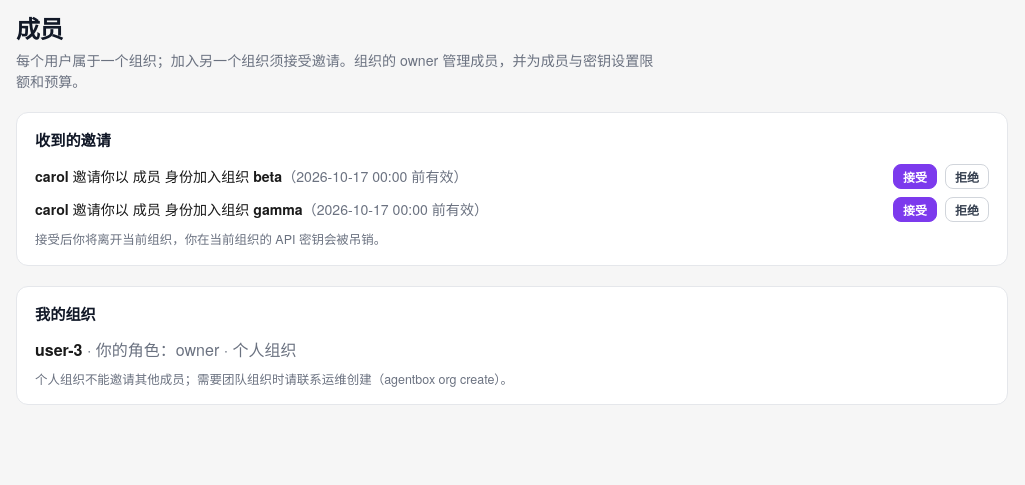
Scenario: OrgView › lets the invitee accept or decline
expect the number of list items is 2: met, box [35, 164, 989, 189]; [35, 197, 989, 222]
Click the button "拒绝" in the row of "gamma" at (967, 210), box [945, 197, 989, 222]
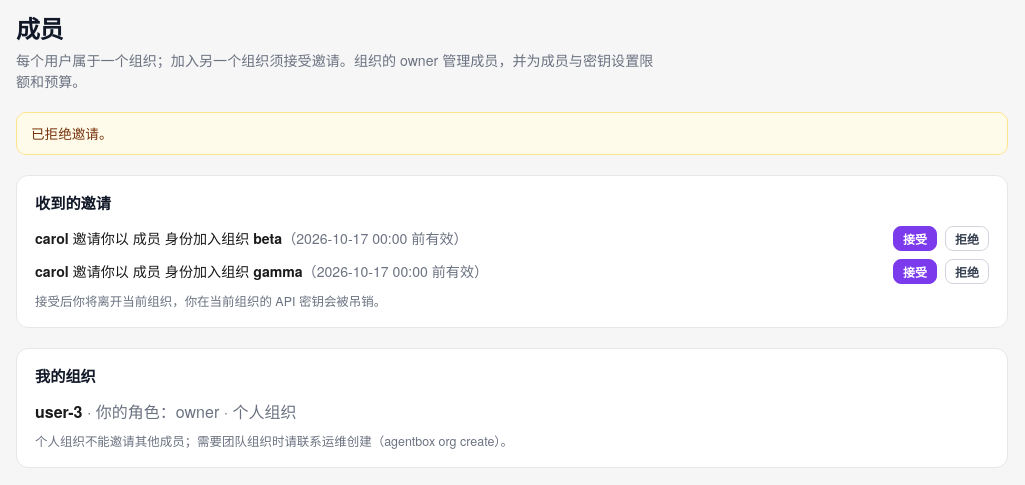
Click the button "接受" in the row of "beta" at (915, 239), box [893, 226, 937, 251]
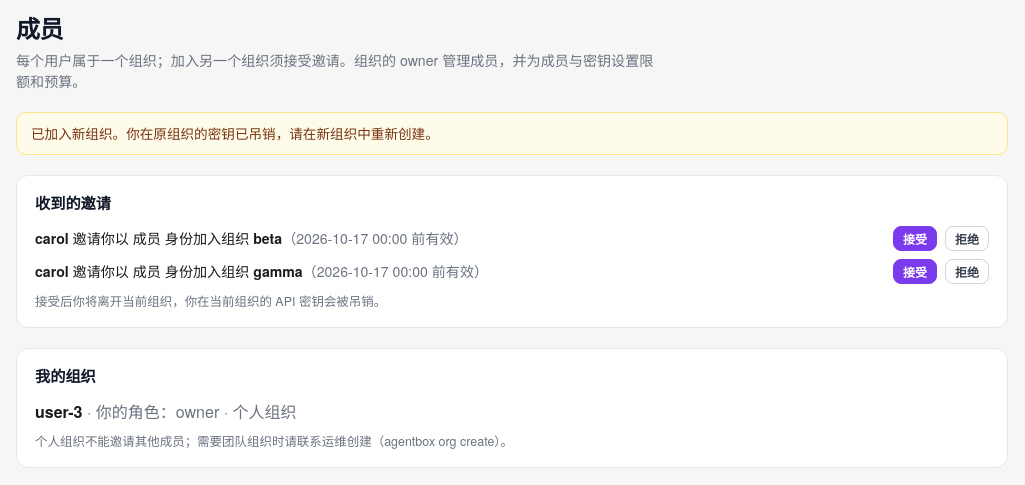
expect the message with test id "org-message" shows "已加入新组织": met, box [31, 123, 439, 143]
